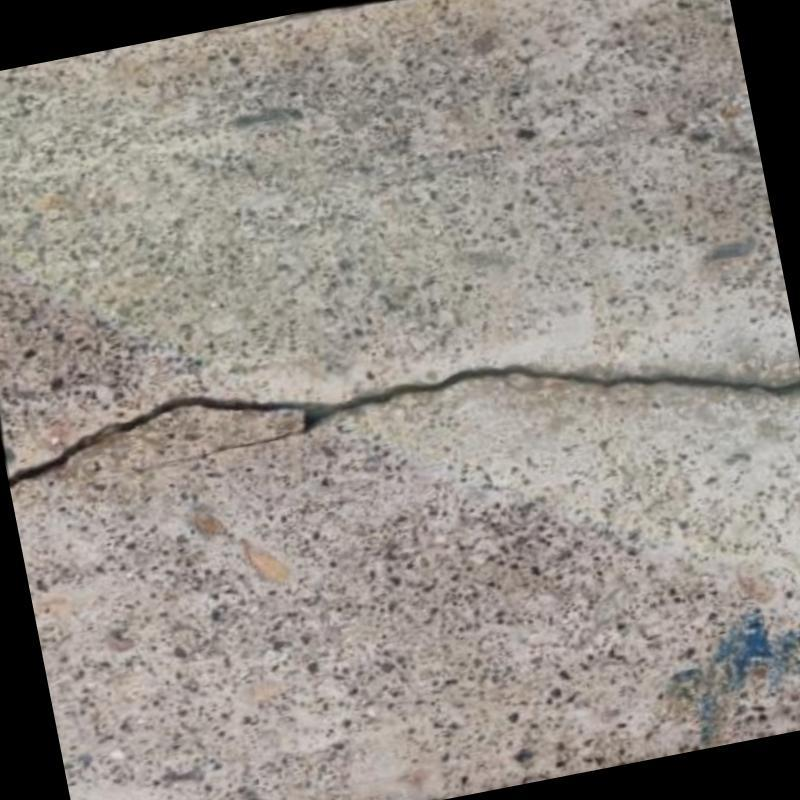pothole: (7, 363, 800, 485)
